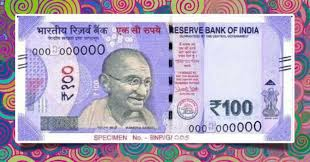hundred: (31, 39, 269, 123)
